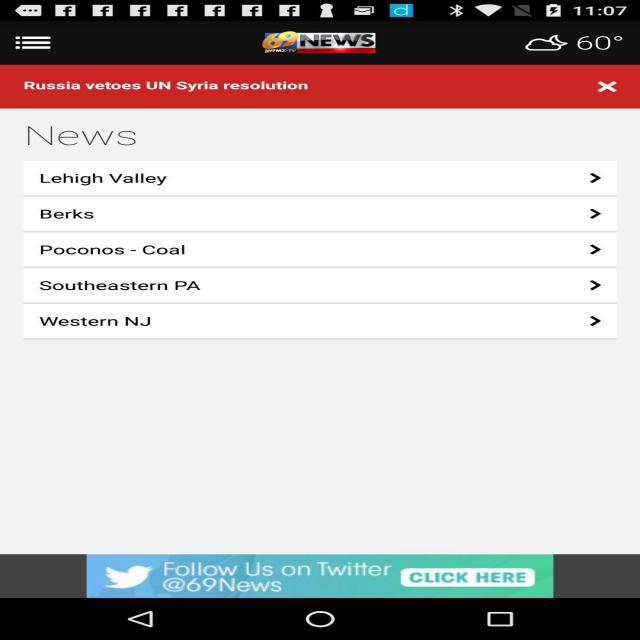button: (25, 305, 608, 344), (85, 555, 553, 598), (24, 163, 604, 195), (34, 271, 612, 303), (12, 236, 607, 266), (32, 198, 600, 228), (240, 27, 411, 61), (1, 29, 70, 62), (590, 68, 638, 100)
image: (514, 29, 572, 58)
text: (18, 74, 322, 100), (12, 122, 186, 155), (576, 26, 628, 59)
